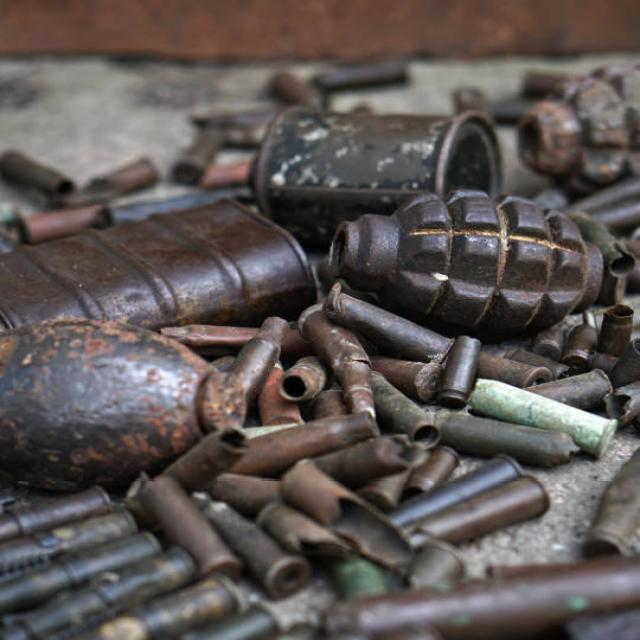grenade: (324, 187, 615, 343)
